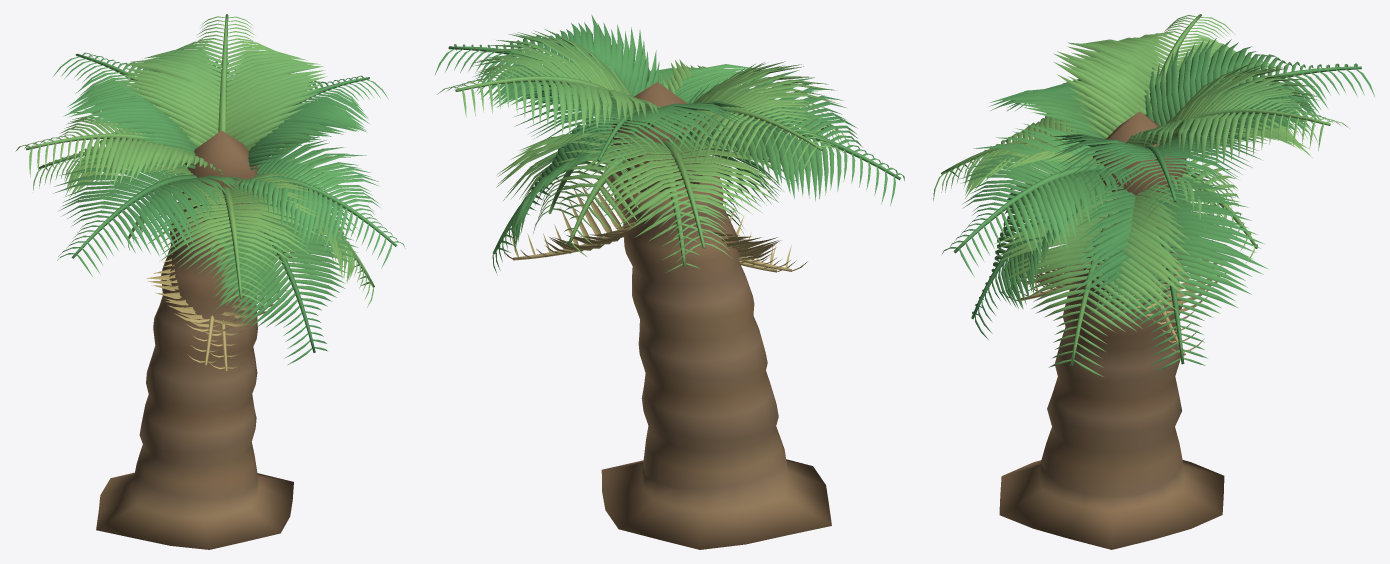
Rendered from palm_ground.glb.
3 renders of one model, left to right at view 1: azimuth 30°, elevation 25°; view 2: azimuth 150°, elevation 25°; view 3: azimuth 270°, elevation 25°, orthographic. The views are drawn at different scales.
Visible parts, largest first — view 1: palm_ground; view 2: palm_ground; view 3: palm_ground.
Boxes of the visible parts, <box> form: palm_ground: <box>15,14,405,549</box>; palm_ground: <box>434,14,904,549</box>; palm_ground: <box>933,14,1375,549</box>.
Bounding box in the file's own units: 1.86 × 1.96 × 1.78.
